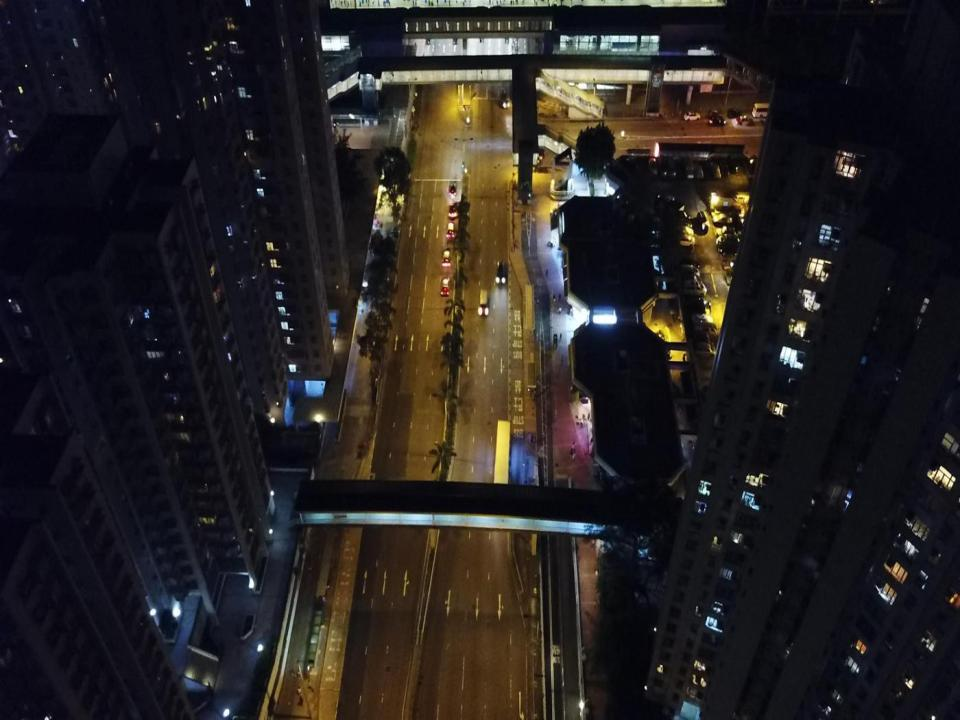car: (682, 279, 707, 298), (716, 238, 741, 255), (694, 341, 717, 359), (712, 212, 737, 227), (678, 263, 700, 278), (673, 233, 695, 248), (715, 226, 741, 238), (681, 273, 703, 287), (716, 232, 738, 246), (677, 258, 700, 271), (691, 313, 713, 326), (673, 225, 694, 238), (692, 159, 704, 181), (708, 112, 726, 126), (658, 154, 668, 178), (684, 155, 694, 179), (718, 156, 730, 176), (498, 90, 511, 108), (648, 156, 658, 178), (496, 260, 505, 284), (668, 155, 677, 179), (440, 276, 450, 297), (710, 161, 721, 179), (683, 109, 701, 120), (446, 221, 456, 240), (442, 247, 451, 267), (448, 200, 458, 218), (727, 108, 742, 119), (448, 183, 458, 198)
van: (694, 322, 717, 338), (751, 101, 771, 119), (479, 288, 488, 315)
